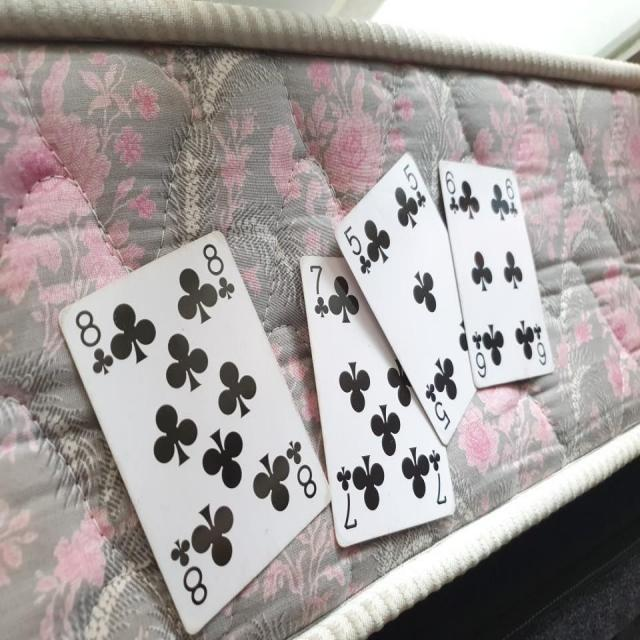5 Trefoils: (332, 148, 478, 444)
6 Trefoils: (436, 154, 554, 388)
7 Trefoils: (298, 252, 458, 548)
8 Trefoils: (58, 226, 332, 634)
